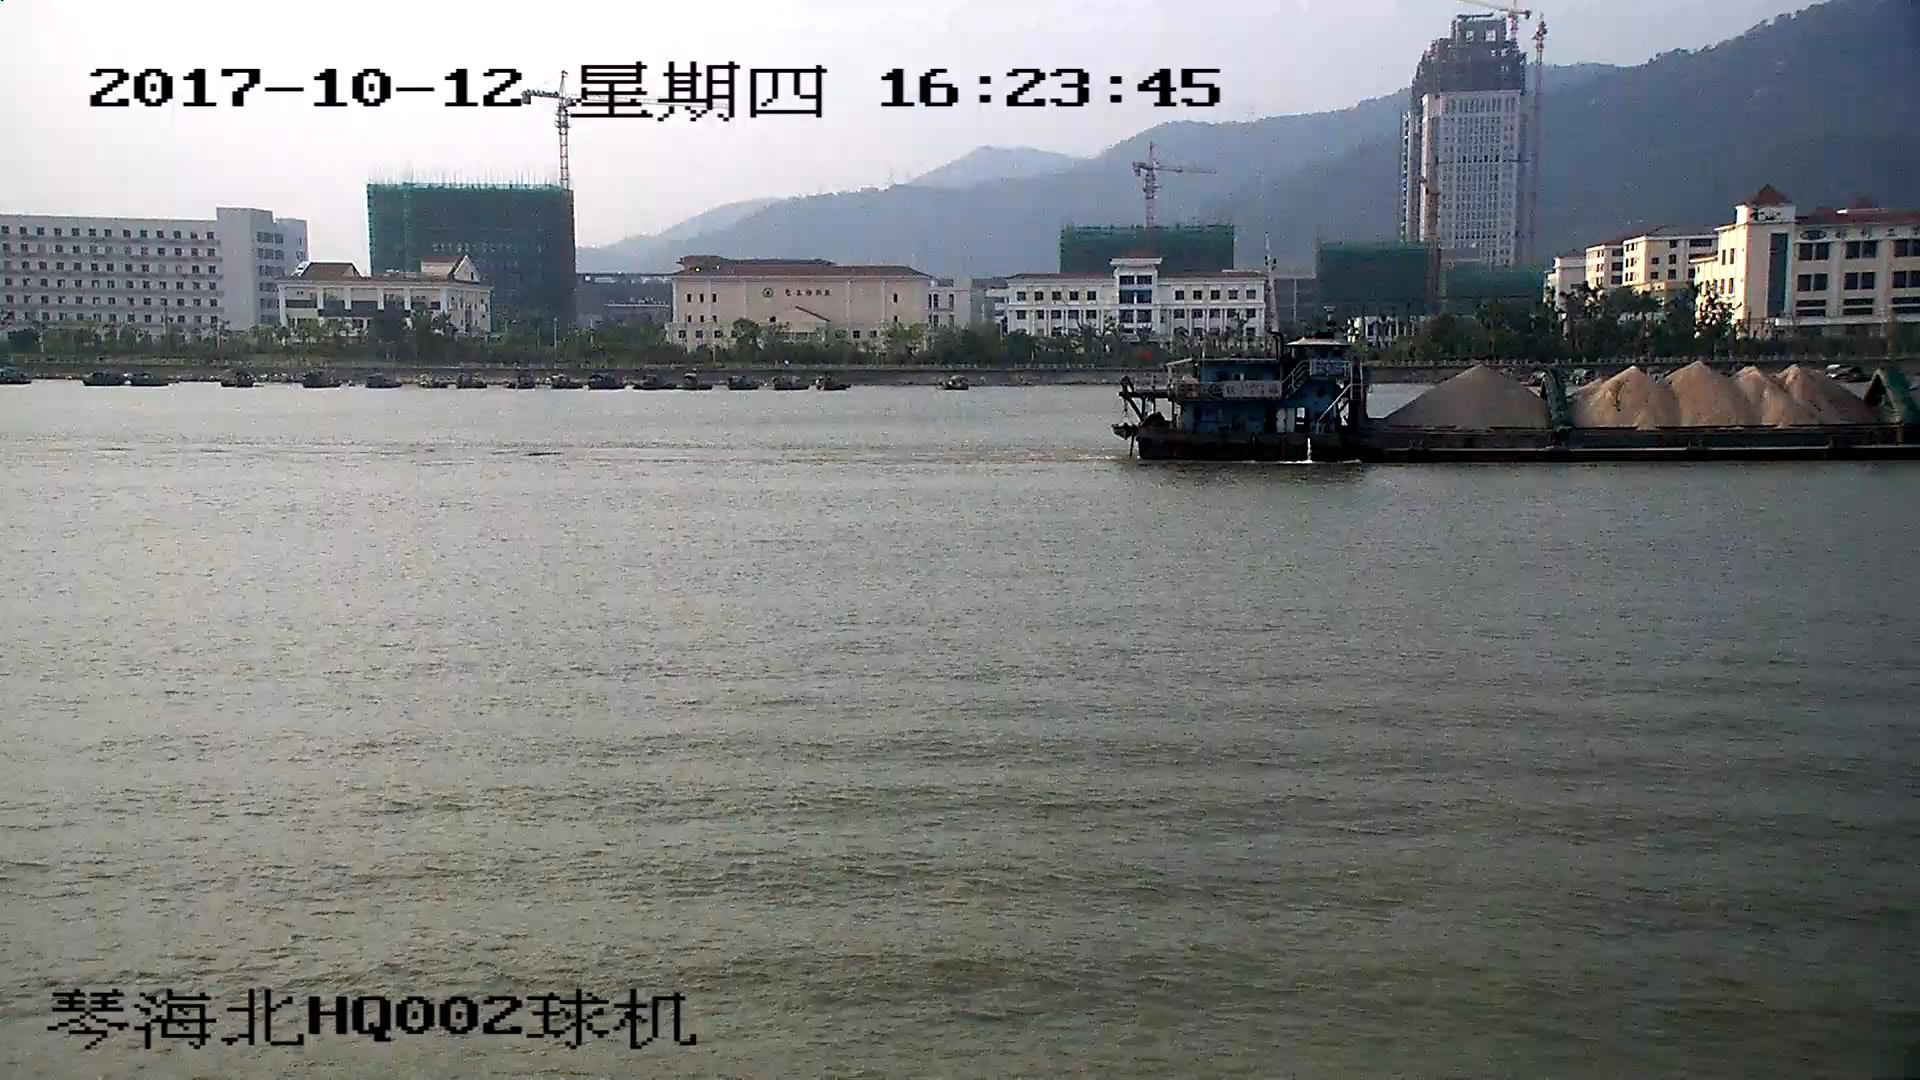ore carrier: (1124, 340, 1920, 461)
